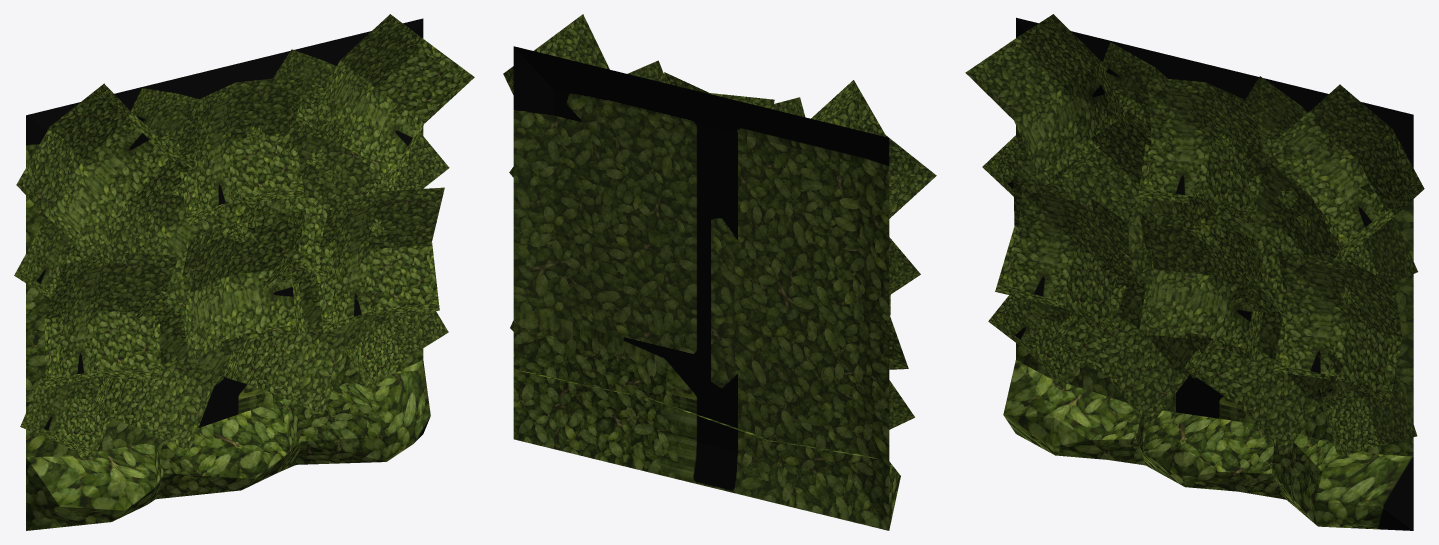
3 renders of one model, left to right at view 1: azimuth 30°, elevation 25°; view 2: azimuth 150°, elevation 25°; view 3: azimuth 330°, elevation 25°, orthographic. The views are drawn at different scales.
Bounding box in the file's own units: 1.17 × 1.09 × 0.1404.
